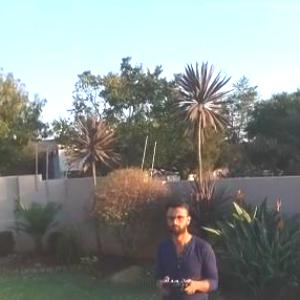follow: (149, 192, 222, 299)
